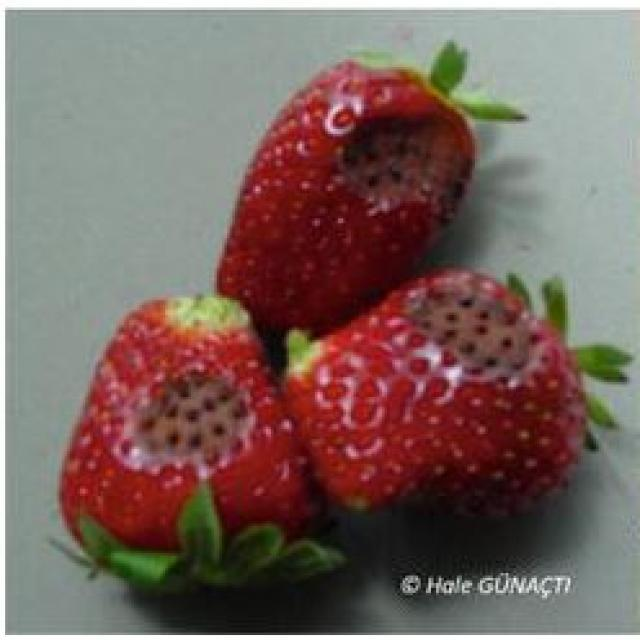Mancha negra Antracnosis: (284, 258, 584, 550), (58, 294, 324, 572), (218, 32, 482, 312)
